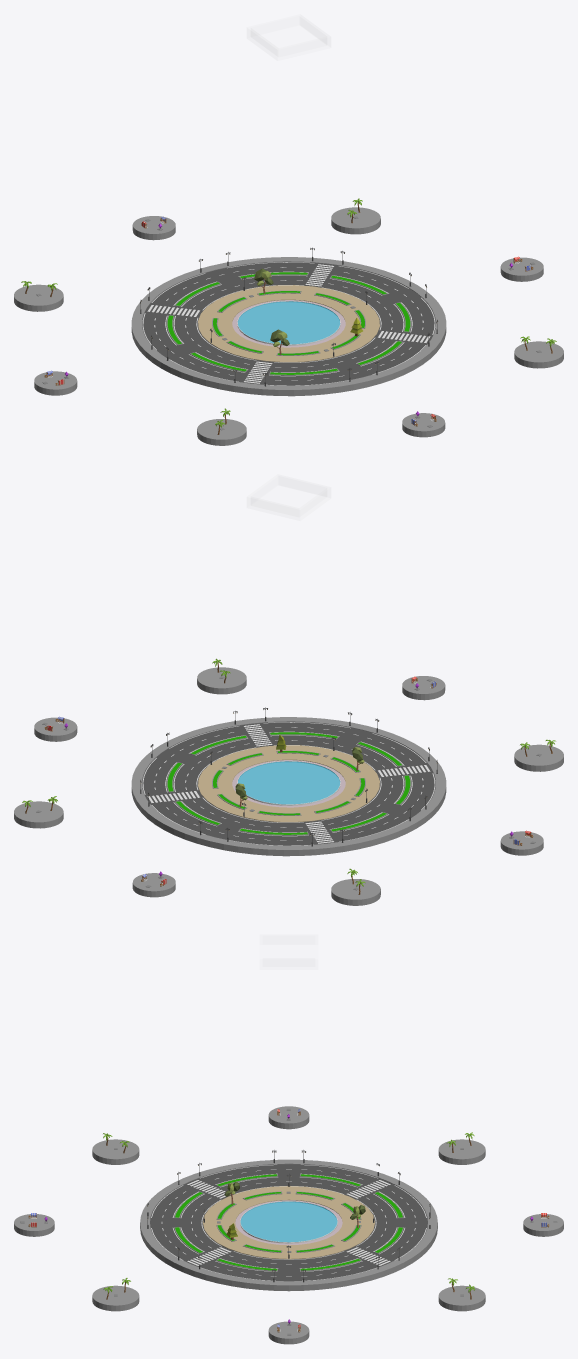
Rendered from pvptownmap.glb.
3 renders of one model, top to bottom at view 1: azimuth 30°, elevation 25°; view 2: azimuth 150°, elevation 25°; view 3: azimuth 270°, elevation 25°, orthographic. The views are drawn at different scales.
Visible parts, largest first — view 1: Circle.008, Circle.005, peoplepathoutsideoffountain, SapphireIslands, outerfountain, Circle.006, water, Circle, Plane.002, planters, waiting room, peoplepathnexttofountain (+1 smaller); view 2: Circle.008, Circle.005, peoplepathoutsideoffountain, SapphireIslands, outerfountain, water, Circle.006, Circle, Plane.002, planters, waiting room, peoplepathnexttofountain (+1 smaller); view 3: Circle.008, Circle.005, peoplepathoutsideoffountain, SapphireIslands, outerfountain, water, Circle.006, Circle, Plane.002, planters, peoplepathnexttofountain.
Part boxes in pixels (box(x1,y1,x2,y2)): Circle.008: box(142, 262, 435, 385); Circle.005: box(131, 257, 446, 396); peoplepathoutsideoffountain: box(198, 285, 379, 362); SapphireIslands: box(14, 207, 563, 445); outerfountain: box(237, 301, 340, 345); Circle.006: box(34, 216, 543, 437); water: box(238, 301, 339, 344); Circle: box(166, 272, 411, 375); Plane.002: box(147, 264, 430, 383); planters: box(212, 290, 365, 355); waiting room: box(251, 28, 326, 56); peoplepathnexttofountain: box(232, 300, 345, 347); Circle.008: box(142, 722, 435, 845); Circle.005: box(131, 717, 446, 856); peoplepathoutsideoffountain: box(198, 745, 379, 822); SapphireIslands: box(14, 667, 563, 905); outerfountain: box(237, 761, 340, 805); water: box(238, 761, 339, 804); Circle.006: box(34, 676, 543, 897); Circle: box(166, 732, 411, 835); Plane.002: box(147, 724, 430, 843); planters: box(212, 750, 365, 815); waiting room: box(251, 488, 326, 516); peoplepathnexttofountain: box(232, 760, 345, 807); Circle.008: box(150, 1164, 427, 1281); Circle.005: box(140, 1159, 437, 1291); peoplepathoutsideoffountain: box(202, 1186, 375, 1259); SapphireIslands: box(92, 1139, 485, 1311); outerfountain: box(240, 1201, 337, 1243); water: box(240, 1201, 337, 1242); Circle.006: box(14, 1106, 563, 1344); Circle: box(174, 1174, 403, 1271); Plane.002: box(187, 1180, 390, 1265); planters: box(216, 1191, 361, 1252); peoplepathnexttofountain: box(235, 1200, 342, 1245).
Bounding box in the file's own units: 281 × 158 × 281.
Materials: 23 (3 with a texture image).
